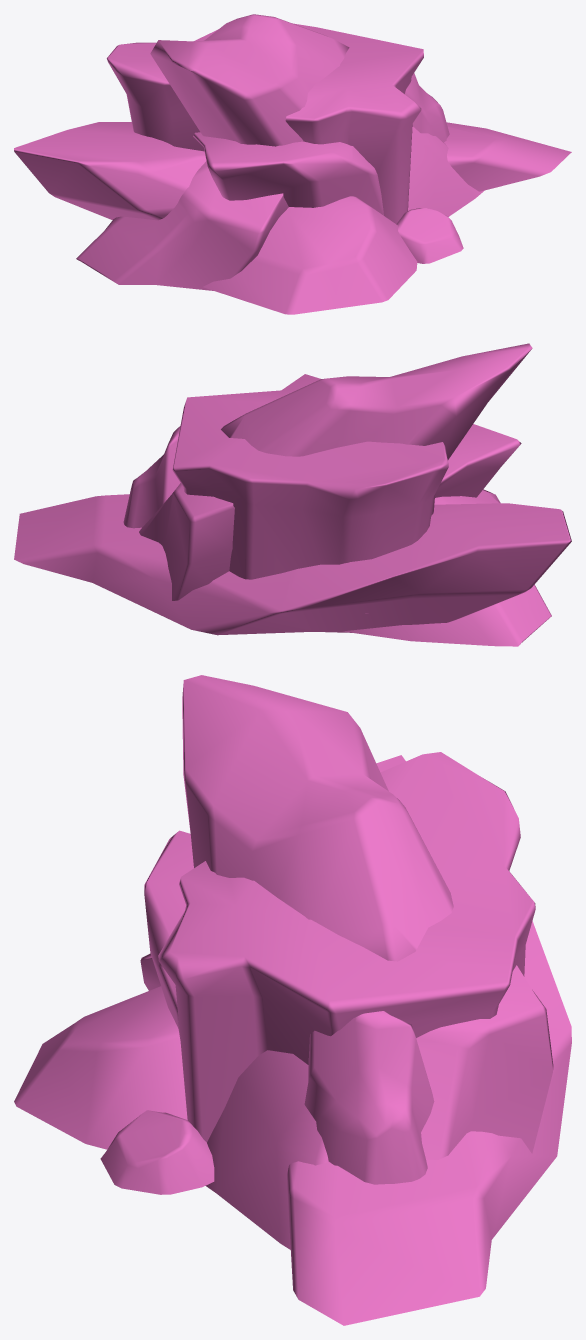
File: grp_rocks_01.fbx
3 views of the same model, one above another, from view 1: azimuth 30°, elevation 25°; view 2: azimuth 150°, elevation 25°; view 3: azimuth 270°, elevation 25° (orthographic). The views are drawn at different scales.
Parts seen in each view (by area): view 1: grp_rocks_01; view 2: grp_rocks_01; view 3: grp_rocks_01.
Boxes of the visible parts, box(x1,y1,x2,y2) form: grp_rocks_01: box(14, 14, 571, 314); grp_rocks_01: box(14, 343, 571, 646); grp_rocks_01: box(14, 675, 571, 1325).
Bounding box in the file's own units: 1629 × 677 × 981.
